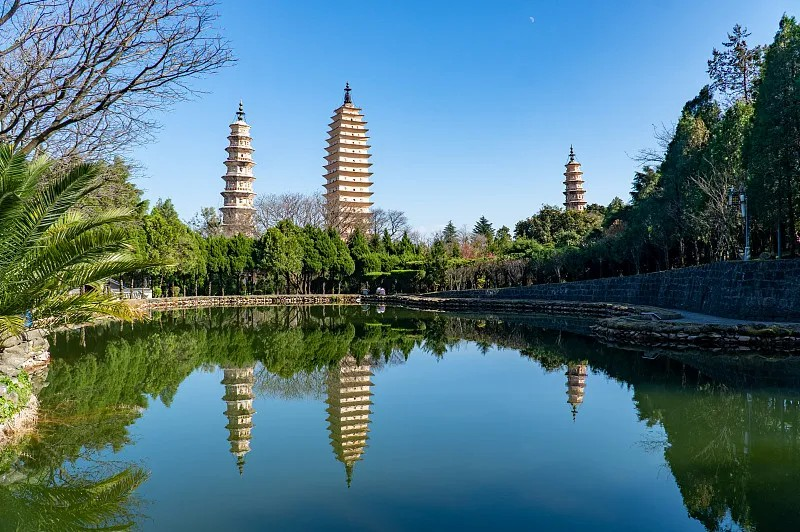ThreePagoda: (322, 81, 373, 232)
